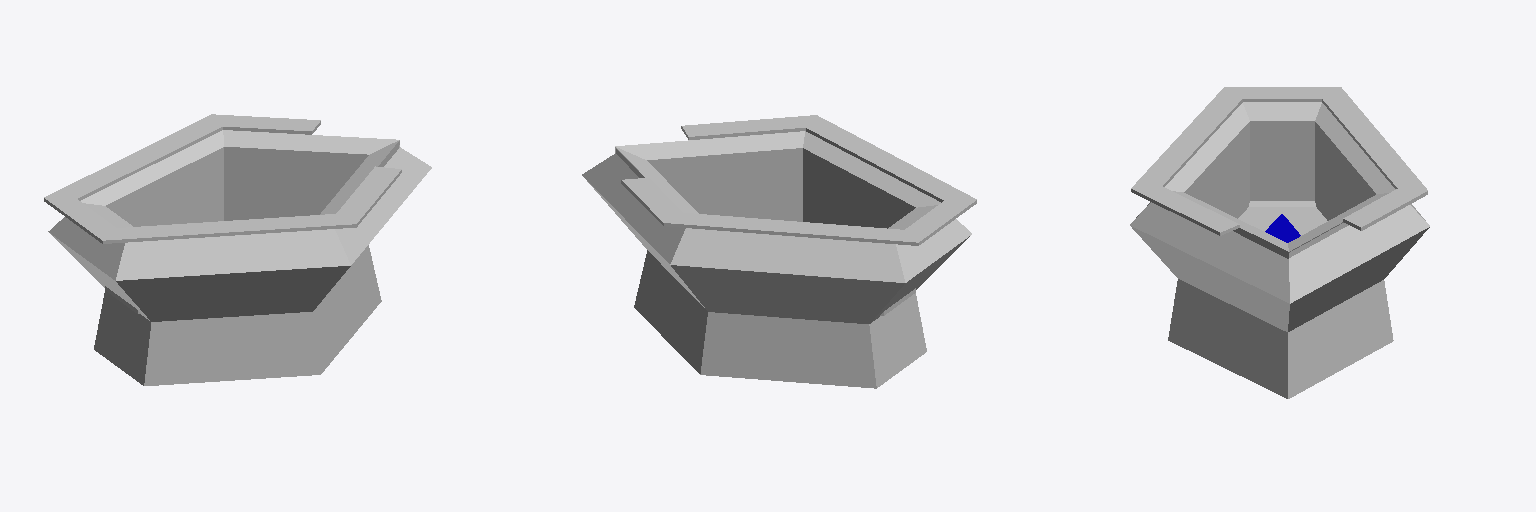
File: Toilet.obj
3 views of the same model, side by side, from view 1: azimuth 30°, elevation 25°; view 2: azimuth 150°, elevation 25°; view 3: azimuth 270°, elevation 25° (orthographic).
Visible parts, largest first — view 1: Plane; view 2: Plane; view 3: Plane.
Boxes of the visible parts, box(x1,y1,x2,y2) form: Plane: box(44, 114, 431, 385); Plane: box(582, 115, 976, 388); Plane: box(1130, 87, 1429, 398).
Size of the model in its own units: 1.96 by 0.8263 by 1.41.